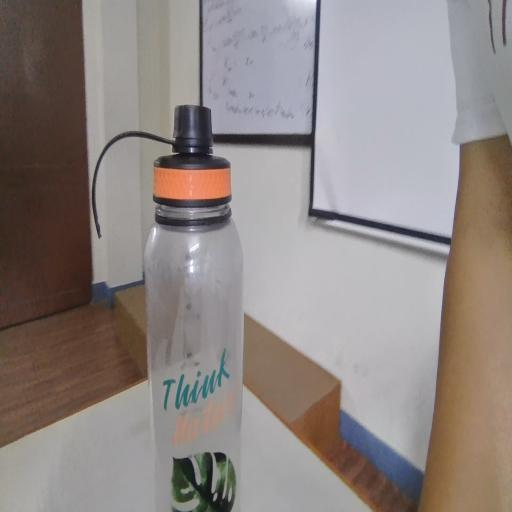Bottle: (146, 88, 263, 491)
